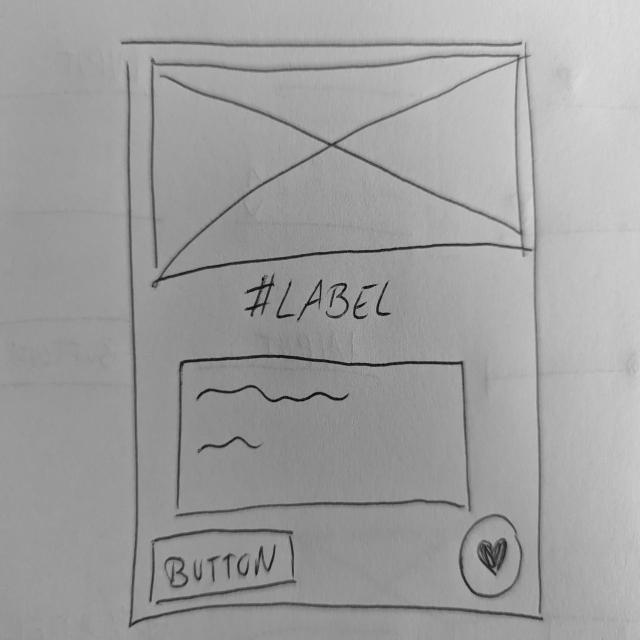button: (148, 528, 299, 612)
container: (120, 36, 546, 629)
icon-button: (458, 513, 524, 600)
image: (150, 52, 528, 286)
label: (243, 269, 399, 325)
textarea: (175, 355, 475, 520)
